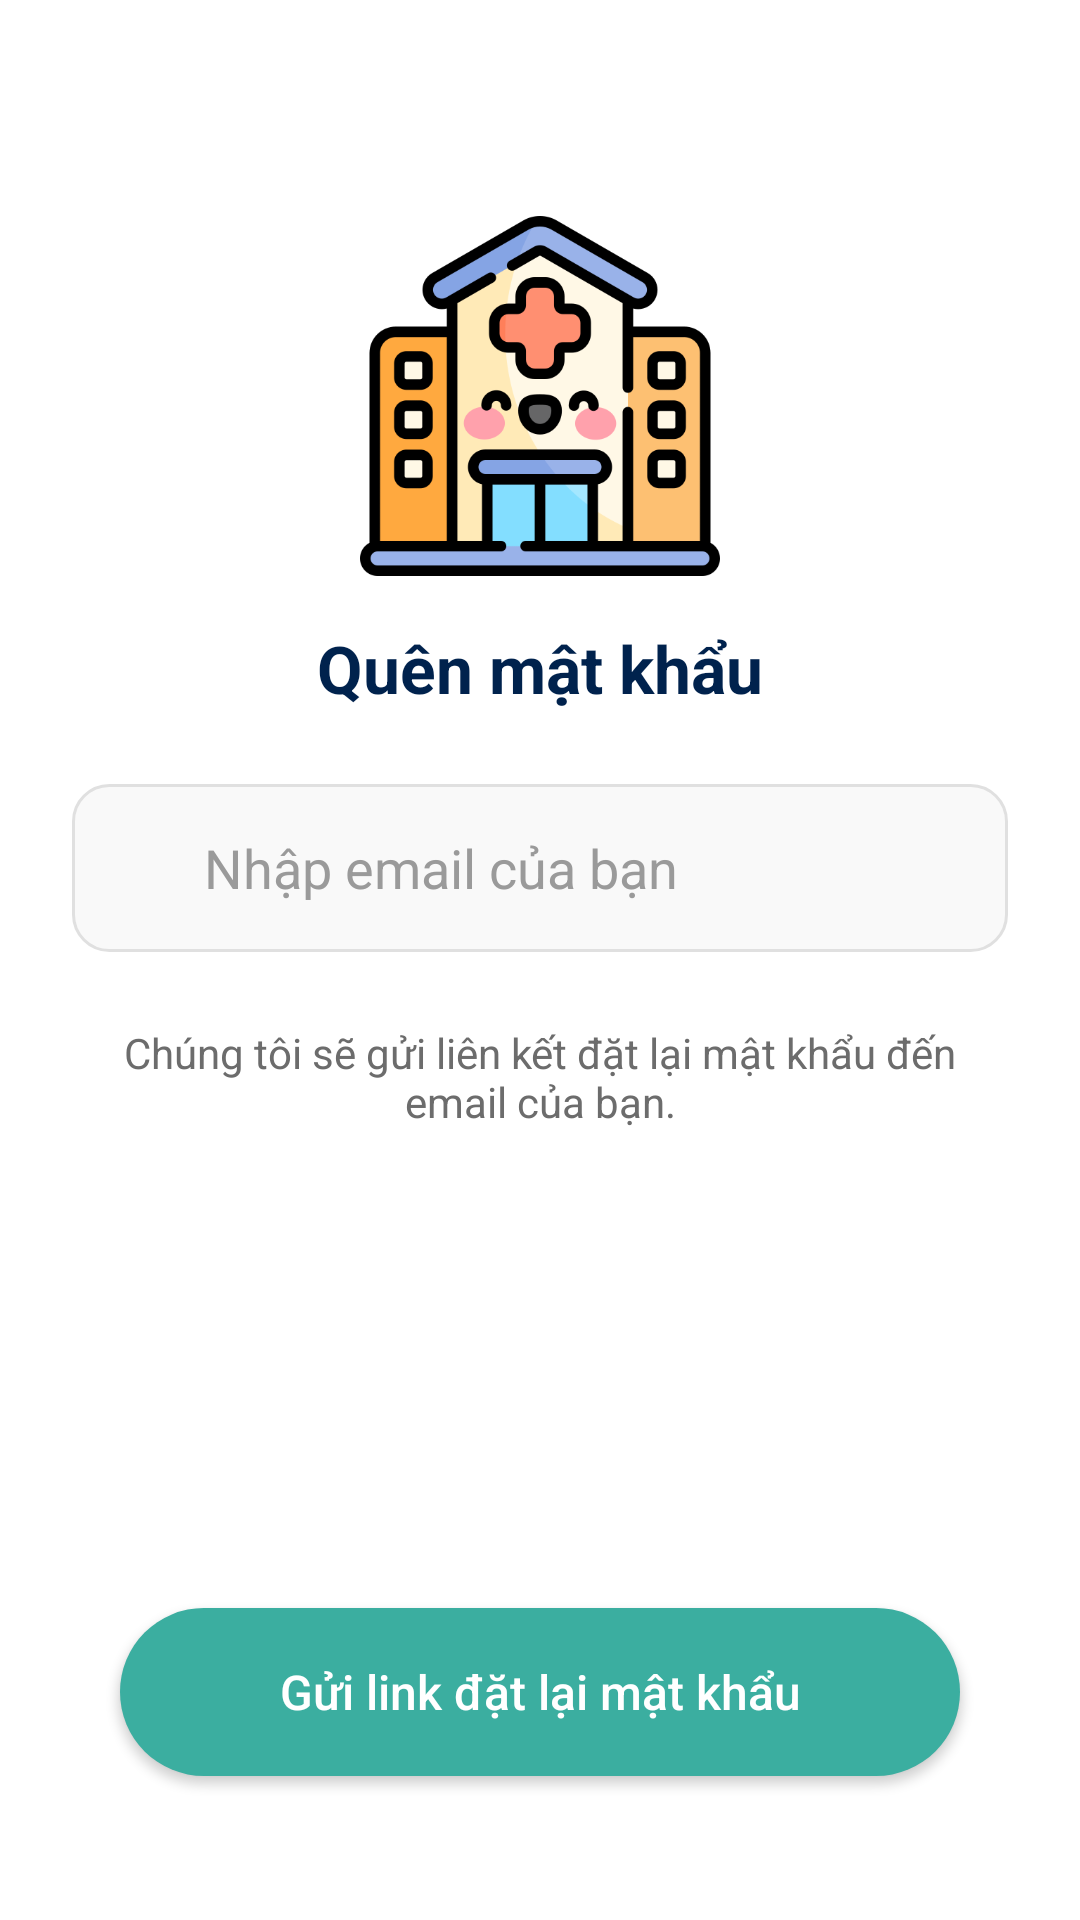

Screen size 1080×1920. Icon name, then its box in pixels as (x1, y1, x2, y2):
hospital: (360, 216, 720, 576)
